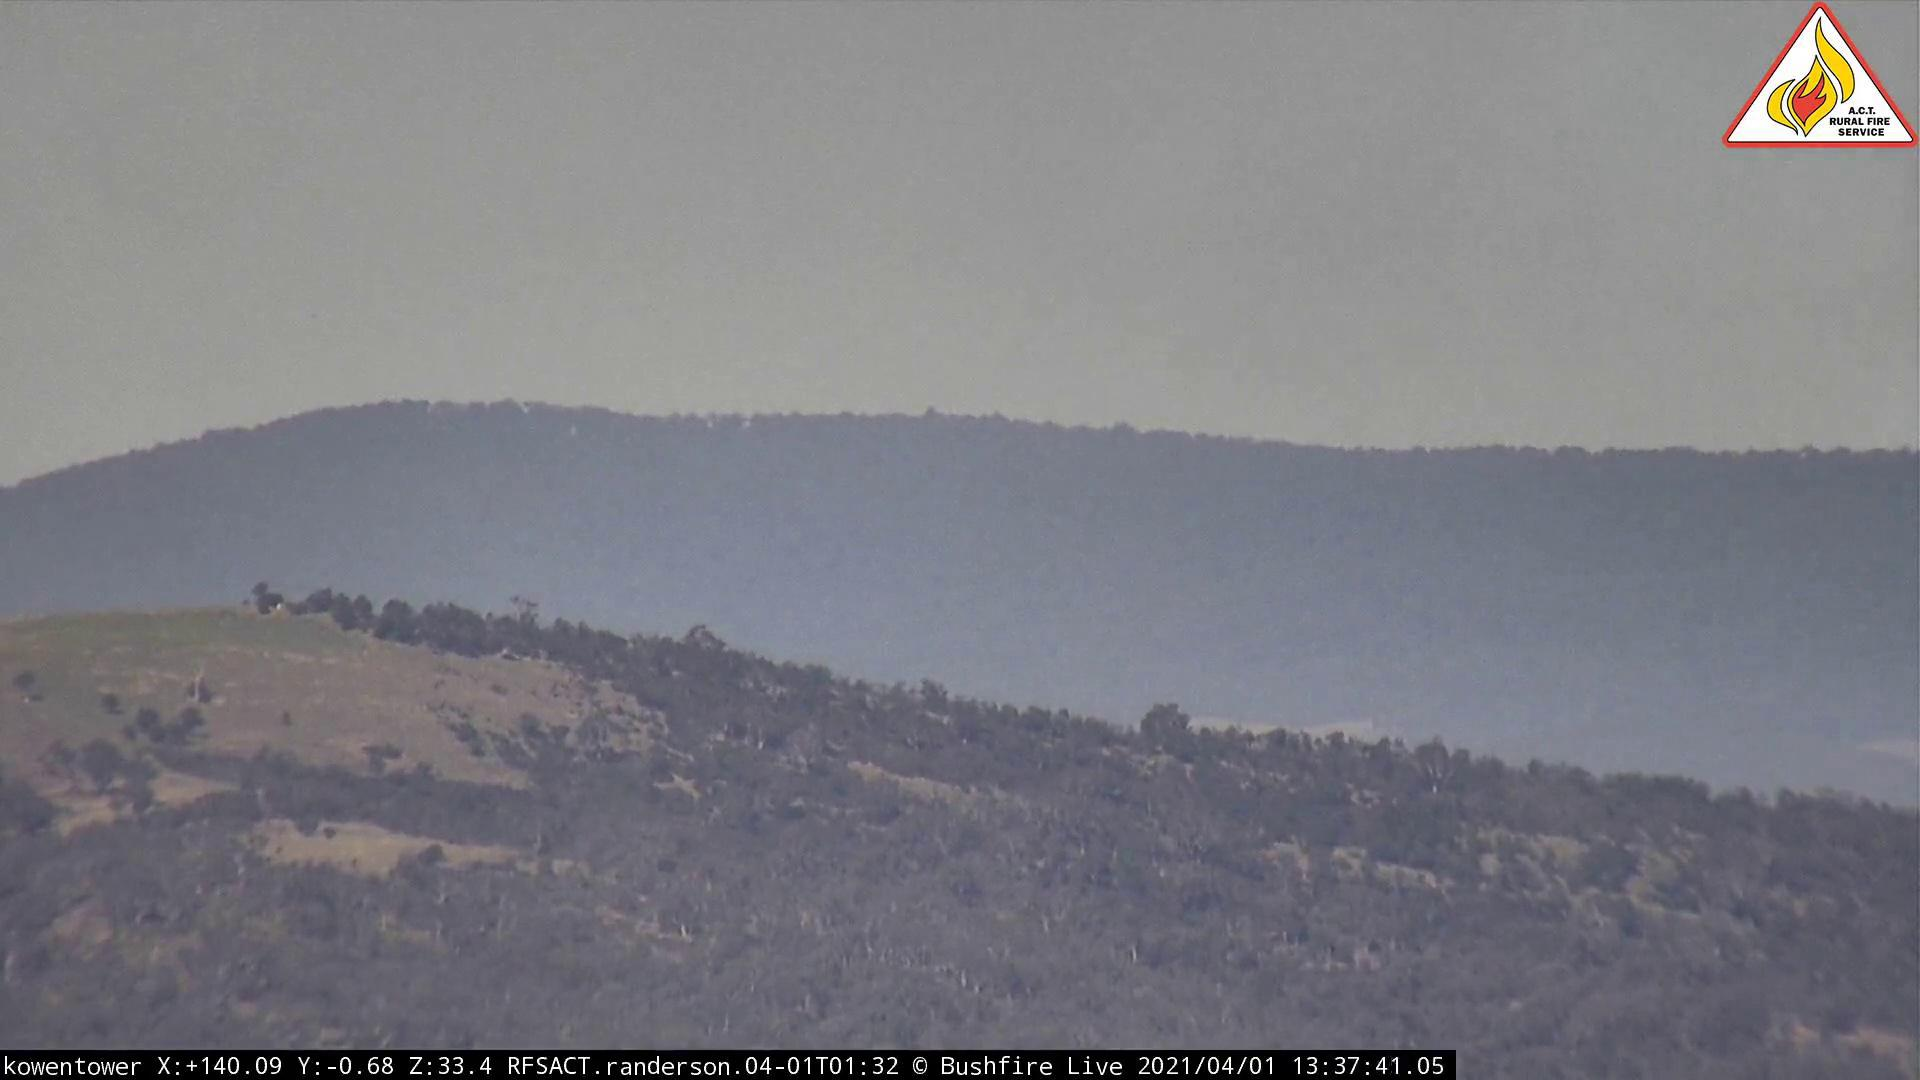instance_salient_object: (1019, 113, 1655, 419)
